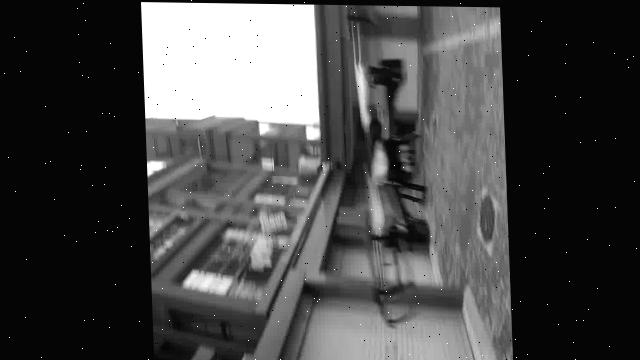drone: (346, 4, 418, 325)
